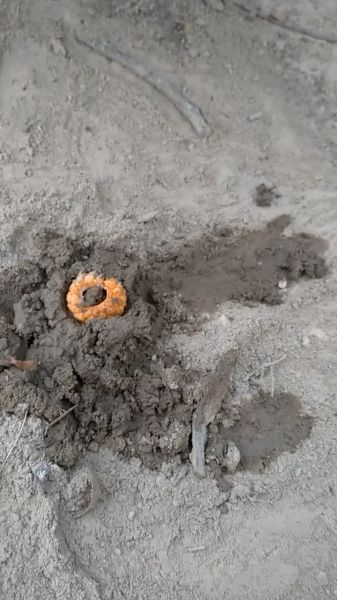eggs: (62, 266, 131, 328)
